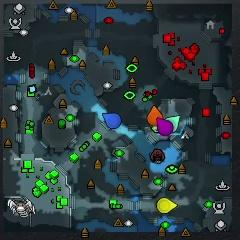p1: (102, 112, 121, 128)
p2: (164, 116, 180, 132)
p3: (156, 118, 173, 136)
p4: (157, 198, 177, 213)
p5: (147, 106, 163, 126)
